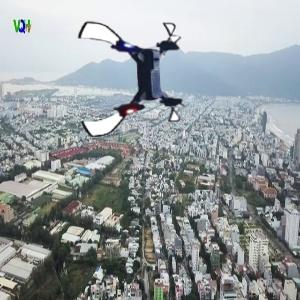drone: (71, 21, 190, 140)
